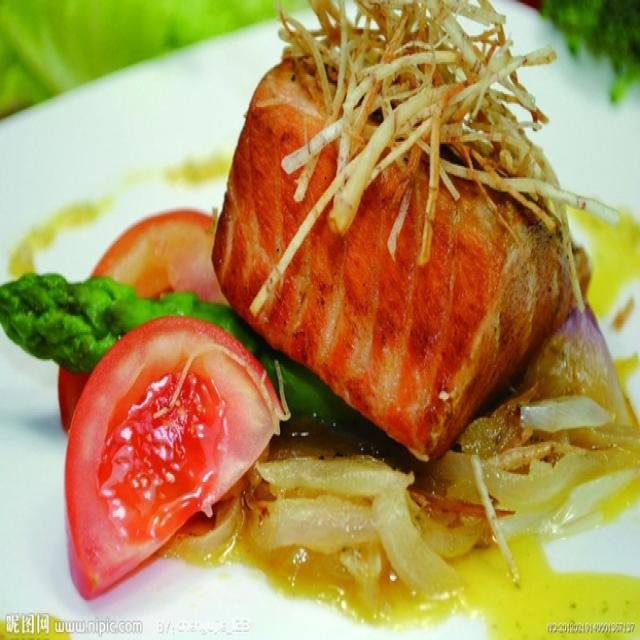熟制海鲜: (1, 9, 636, 630)
